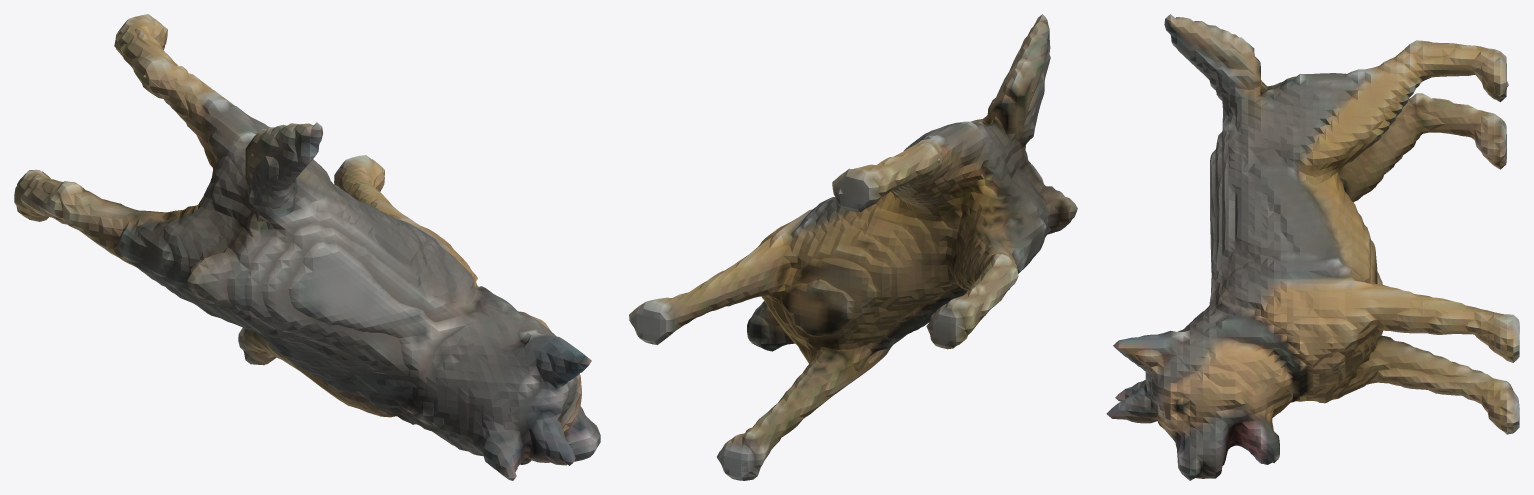
The model's file is barking-dog.glb.
3 views of the same model, side by side, from view 1: azimuth 30°, elevation 25°; view 2: azimuth 150°, elevation 25°; view 3: azimuth 270°, elevation 25° (orthographic). The views are drawn at different scales.
Visible parts, largest first — view 1: world; view 2: world; view 3: world.
Part boxes in pixels (x1=…): world: x1=14, y1=14, x2=600, y2=480; world: x1=629, y1=14, x2=1077, y2=480; world: x1=1106, y1=14, x2=1519, y2=480.
Size of the model in its own units: 0.8586 by 0.8389 by 0.8759.
